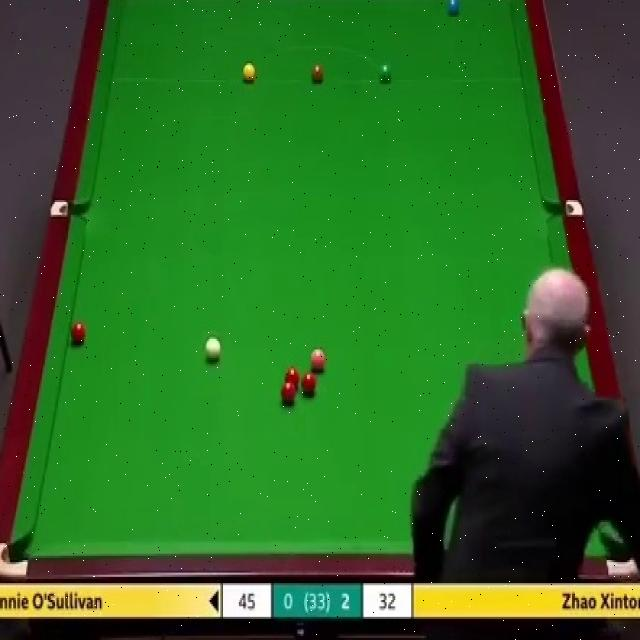blue-ball: (444, 0, 460, 17)
brown-ball: (310, 66, 324, 82)
green-ball: (378, 61, 393, 86)
pink-ball: (308, 348, 326, 372)
red-ball: (302, 371, 317, 400), (280, 380, 297, 405), (284, 367, 300, 390), (70, 322, 87, 343)
white-ball: (203, 336, 222, 365)
yellow-ball: (242, 62, 256, 84)
